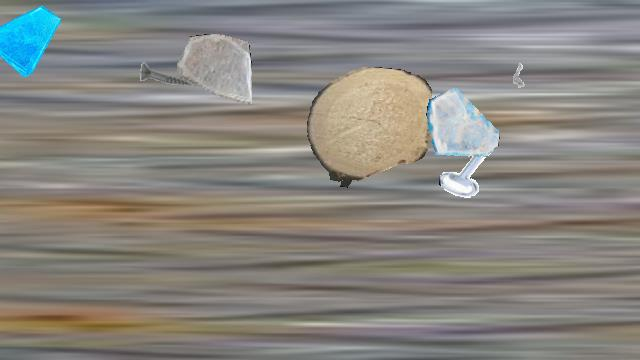glass: (177, 34, 251, 108), (426, 85, 500, 159), (0, 1, 60, 77)
metal: (138, 43, 200, 105), (439, 139, 501, 201), (500, 52, 538, 90), (634, 290, 640, 350)
wood: (307, 67, 431, 189)
